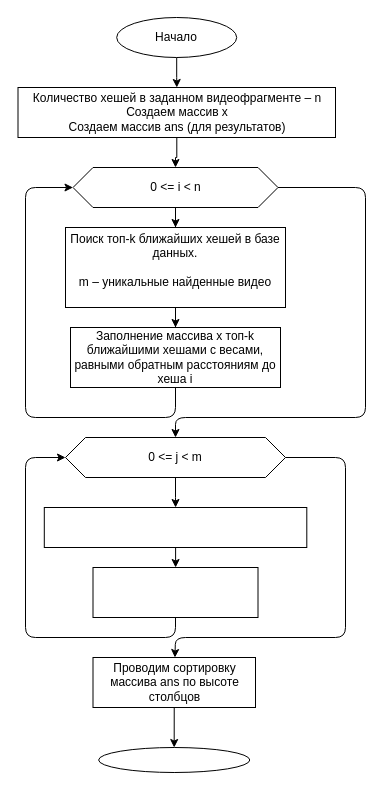
The diagram is 391 pixels wide and 790 high, and some of its shapes have lost their labels. The shapes that lost their labels are listed below. From the top down, each one's centre as x and y in pixels, then its label:
At [175,527]: "Составление гистограммы из массива x".
At [175,592]: "Выбираем максимальный столбец по высоте и записываем в массив ans".
At [174,759]: "Конец".
